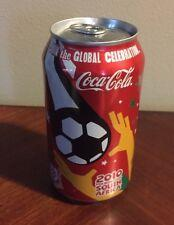metal: (44, 17, 145, 202)
